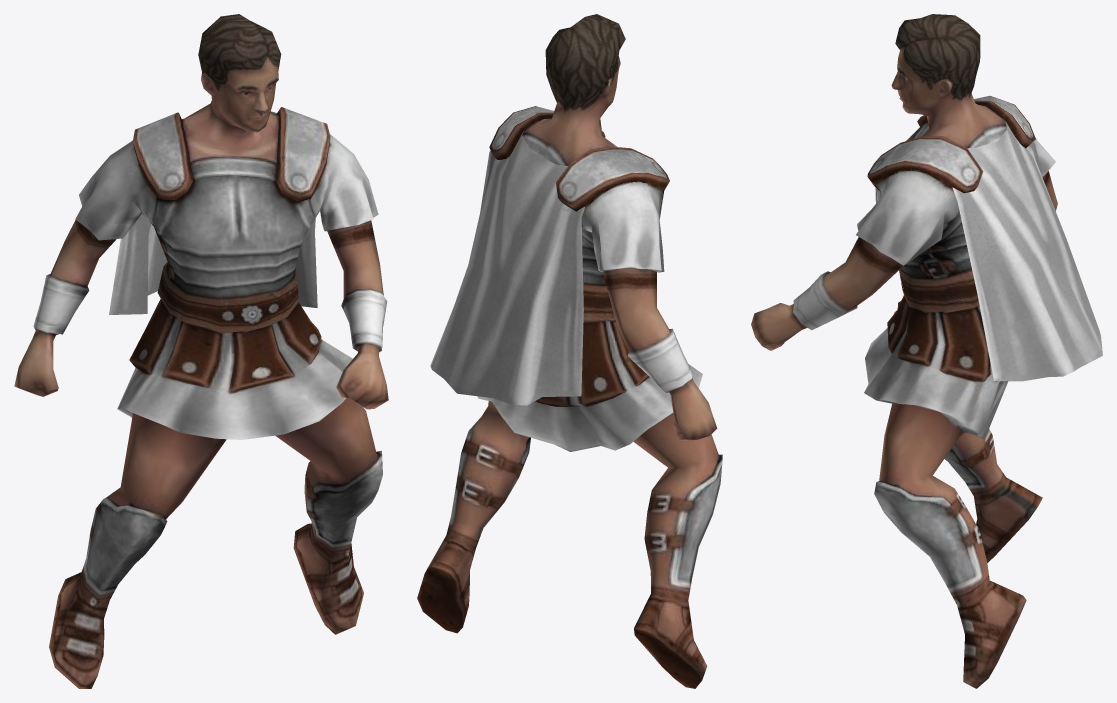
Rendered from rider-slice-mediumcavalry.glb.
The picture shows the model from 3 angles, left to right: view 1: azimuth 30°, elevation 25°; view 2: azimuth 150°, elevation 25°; view 3: azimuth 270°, elevation 25°; orthographic projection. The views are drawn at different scales.
Bounding box in the file's own units: 1.08 × 2.09 × 1.08.
1 material, 1 textured.
